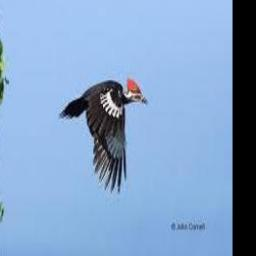Woodpecker: (58, 76, 148, 194)
